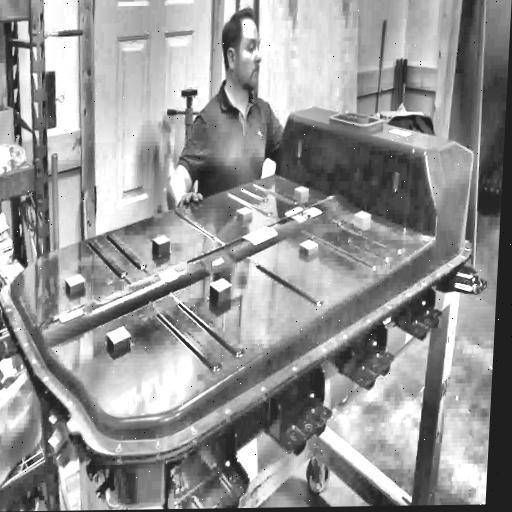b_casing: (0, 103, 480, 512)
